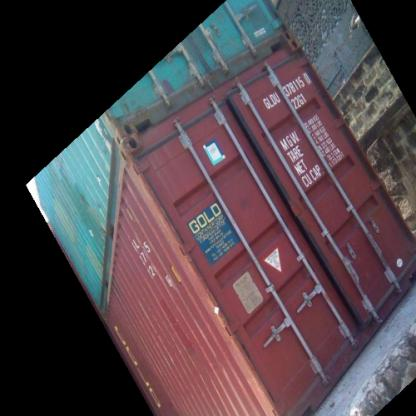Damage: (120, 134, 183, 238), (178, 235, 230, 327), (215, 312, 267, 389), (323, 318, 376, 374)
